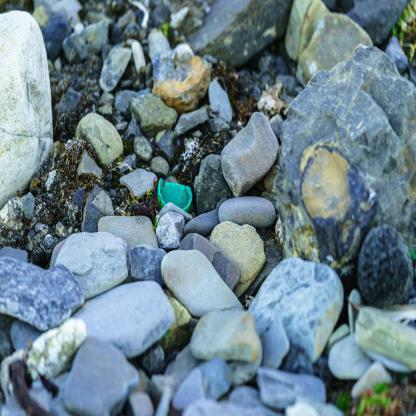plastik: (158, 179, 194, 215)
